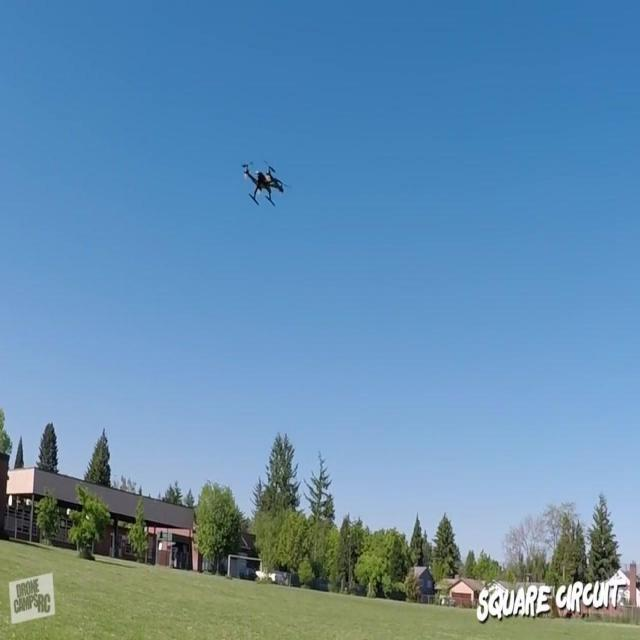UAV: (241, 160, 289, 206)
